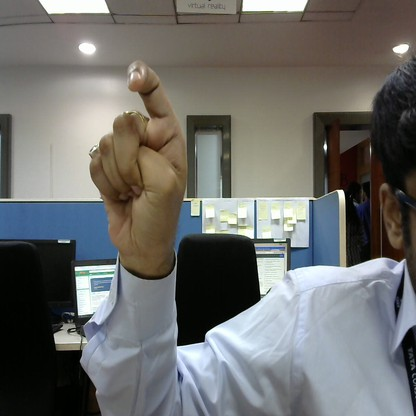x: (83, 59, 186, 271)
